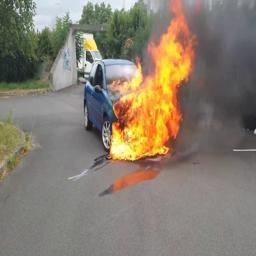fire: (108, 0, 201, 160)
